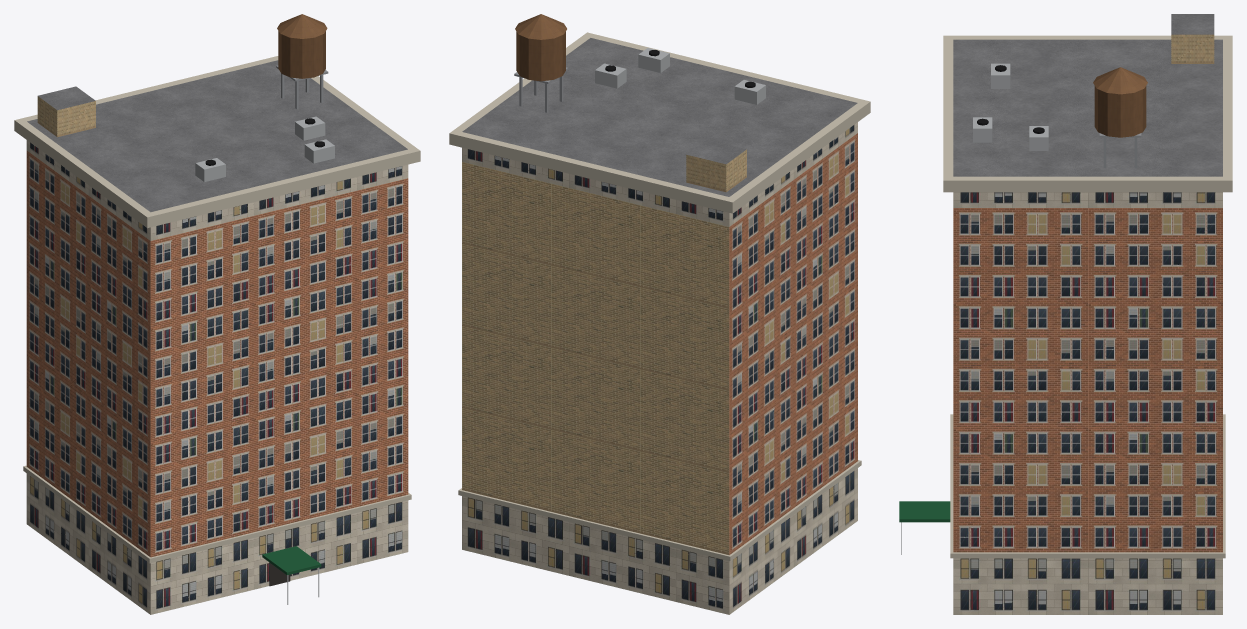
File: 016_prewar_apartment.glb
3 views of the same model, side by side, from view 1: azimuth 30°, elevation 25°; view 2: azimuth 150°, elevation 25°; view 3: azimuth 270°, elevation 25° (orthographic). The views are drawn at different scales.
Parts seen in each view (by area): view 1: 016_prewar_apartment; view 2: 016_prewar_apartment; view 3: 016_prewar_apartment.
Part boxes in pixels (bbox=[...]): 016_prewar_apartment: bbox=[14, 14, 420, 614]; 016_prewar_apartment: bbox=[449, 14, 870, 614]; 016_prewar_apartment: bbox=[899, 14, 1232, 614].
Size of the model in its own units: 31.8 by 54.4 by 30.9.
12 materials, 5 textured.
